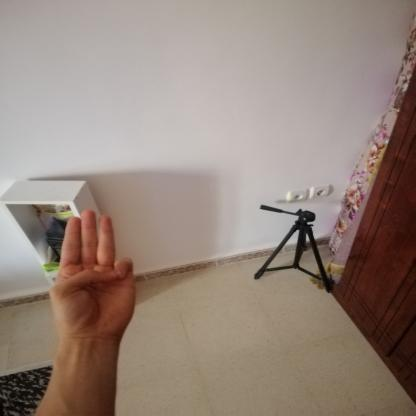THA: (32, 200, 150, 355)
